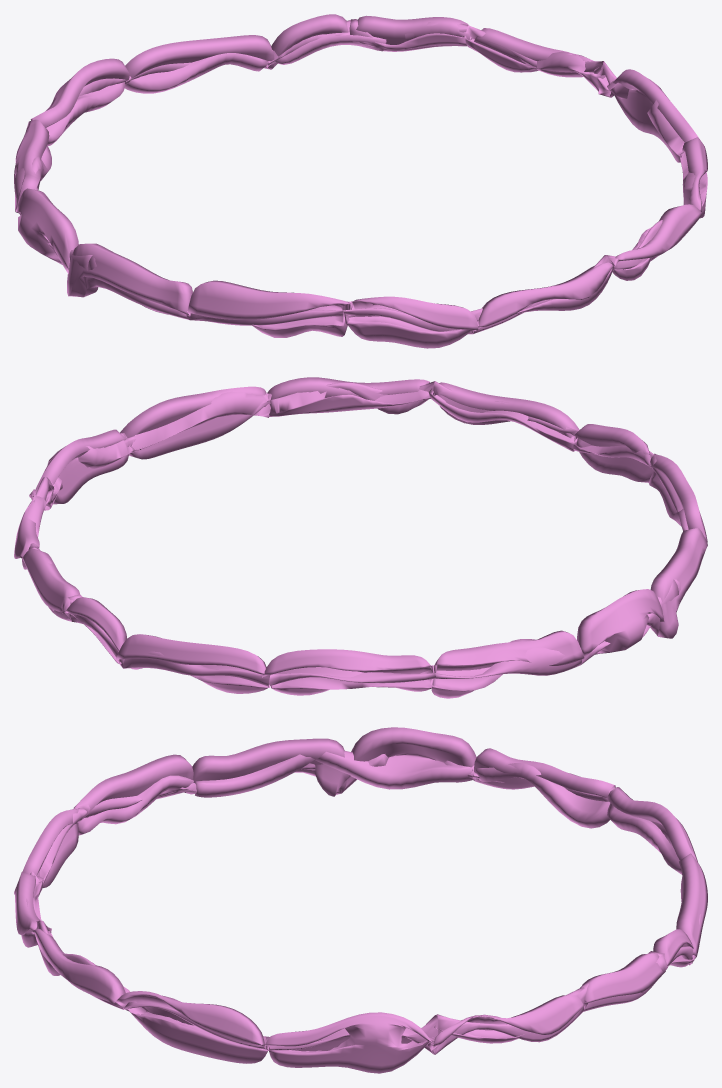
The model's file is Extra Ring.fbx.
3 views of the same model, one above another, from view 1: azimuth 30°, elevation 25°; view 2: azimuth 150°, elevation 25°; view 3: azimuth 270°, elevation 25° (orthographic).
Visible parts, largest first — view 1: Record Phase 4 Extras Ring.006, Record Phase 4 Extras Ring.001, Record Phase 4 Extras Ring.007, Record Phase 4 Extras Ring.005, Record Phase 4 Extras Ring.011, Record Phase 4 Extras Ring.008, Record Phase 4 Extras Ring.012, Record Phase 4 Extras Ring.002, Record Phase 4 Extras Ring, Record Phase 4 Extras Ring.004, Record Phase 4 Extras Ring.013, Record Phase 4 Extras Ring.009 (+2 smaller); view 2: Record Phase 4 Extras Ring.010, Record Phase 4 Extras Ring.002, Record Phase 4 Extras Ring.003, Record Phase 4 Extras Ring.001, Record Phase 4 Extras Ring.009, Record Phase 4 Extras Ring.008, Record Phase 4 Extras Ring.004, Record Phase 4 Extras Ring.011, Record Phase 4 Extras Ring.007, Record Phase 4 Extras Ring.005, Record Phase 4 Extras Ring.006, Record Phase 4 Extras Ring.013 (+2 smaller); view 3: Record Phase 4 Extras Ring.004, Record Phase 4 Extras Ring.011, Record Phase 4 Extras Ring.010, Record Phase 4 Extras Ring.005, Record Phase 4 Extras Ring.003, Record Phase 4 Extras Ring.006, Record Phase 4 Extras Ring.012, Record Phase 4 Extras Ring.002, Record Phase 4 Extras Ring.009, Record Phase 4 Extras Ring, Record Phase 4 Extras Ring.007, Record Phase 4 Extras Ring.001 (+2 smaller).
Boxes of the visible parts, x1,y1,x2,y2 form: Record Phase 4 Extras Ring.006: (186,280,352,337); Record Phase 4 Extras Ring.001: (125,35,274,93); Record Phase 4 Extras Ring.007: (343,296,478,348); Record Phase 4 Extras Ring.005: (67,243,192,319); Record Phase 4 Extras Ring.011: (594,61,703,162); Record Phase 4 Extras Ring.008: (471,255,614,333); Record Phase 4 Extras Ring.012: (462,25,610,96); Record Phase 4 Extras Ring.002: (30,58,129,146); Record Phase 4 Extras Ring: (349,15,472,51); Record Phase 4 Extras Ring.004: (16,188,98,296); Record Phase 4 Extras Ring.013: (266,14,386,69); Record Phase 4 Extras Ring.009: (606,204,702,280); Record Phase 4 Extras Ring.010: (120,386,270,459); Record Phase 4 Extras Ring.002: (262,649,435,695); Record Phase 4 Extras Ring.003: (430,630,584,698); Record Phase 4 Extras Ring.001: (115,634,270,693); Record Phase 4 Extras Ring.009: (267,377,438,416); Record Phase 4 Extras Ring.008: (428,381,579,451); Record Phase 4 Extras Ring.004: (577,579,678,664); Record Phase 4 Extras Ring.011: (31,429,134,510); Record Phase 4 Extras Ring.007: (573,424,653,482); Record Phase 4 Extras Ring.005: (650,528,707,638); Record Phase 4 Extras Ring.006: (649,453,707,542); Record Phase 4 Extras Ring.013: (61,597,126,667); Record Phase 4 Extras Ring.004: (314,727,476,796); Record Phase 4 Extras Ring.011: (265,1012,439,1073); Record Phase 4 Extras Ring.010: (116,991,269,1063); Record Phase 4 Extras Ring.005: (192,738,346,797); Record Phase 4 Extras Ring.003: (472,748,615,828); Record Phase 4 Extras Ring.006: (73,754,196,835); Record Phase 4 Extras Ring.012: (428,987,586,1054); Record Phase 4 Extras Ring.002: (607,787,697,874); Record Phase 4 Extras Ring.009: (33,920,130,1009); Record Phase 4 Extras Ring: (580,951,665,1011); Record Phase 4 Extras Ring.007: (22,808,86,888); Record Phase 4 Extras Ring.001: (676,853,707,964).
Size of the model in its own units: 98.69 by 10.47 by 96.74.
